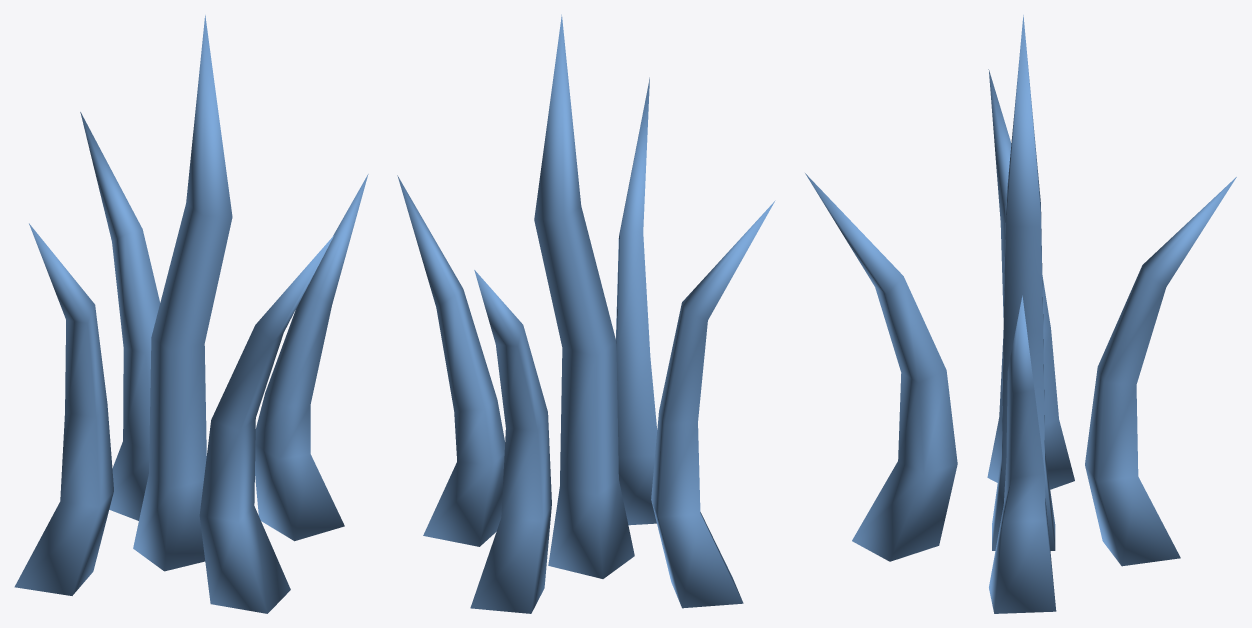
Rendered from winter-grass03.glb.
3 views of the same model, side by side, from view 1: azimuth 30°, elevation 25°; view 2: azimuth 150°, elevation 25°; view 3: azimuth 270°, elevation 25° (orthographic).
Parts seen in each view (by area): view 1: WinterGrass03; view 2: WinterGrass03; view 3: WinterGrass03.
Boxes of the visible parts, left/top/right/bottom form: WinterGrass03: left=14, top=15, right=368, bottom=613; WinterGrass03: left=397, top=14, right=775, bottom=613; WinterGrass03: left=805, top=15, right=1236, bottom=613.
Size of the model in its own units: 97.86 by 140 by 102.
Materials: 1 (1 with a texture image).
